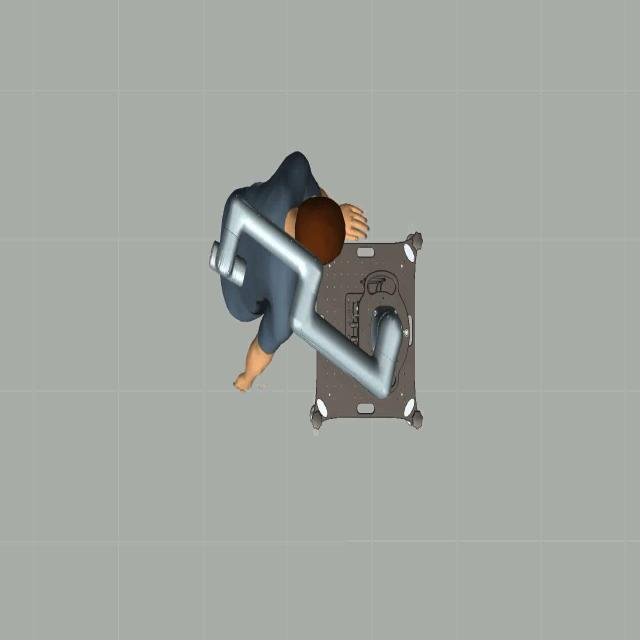human: (210, 116, 370, 401)
robot: (209, 184, 407, 398)
